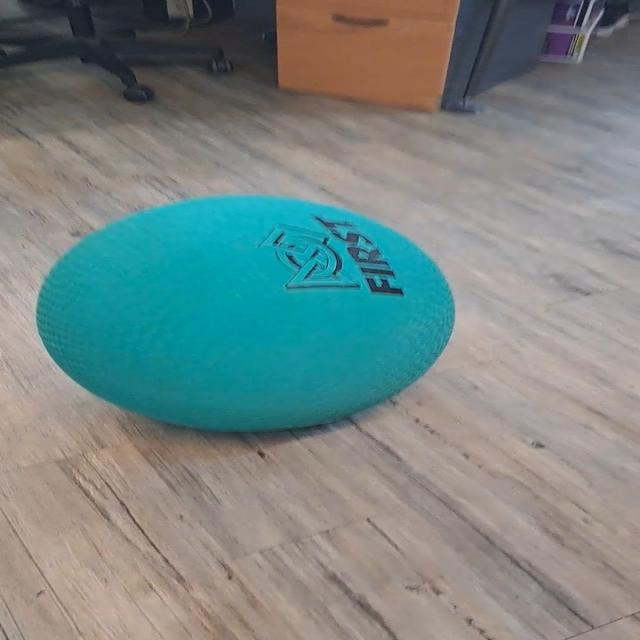ALGAE: (33, 192, 457, 434)
